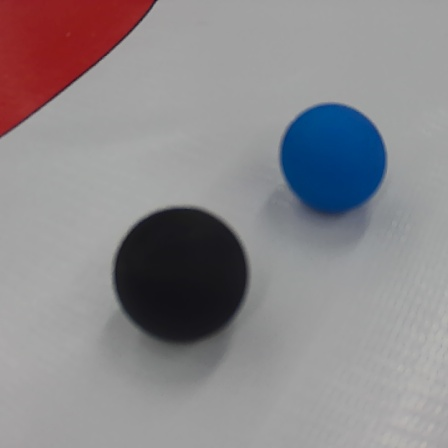black: (112, 207, 250, 343)
blue: (278, 102, 389, 212)
red_base: (3, 2, 157, 136)
